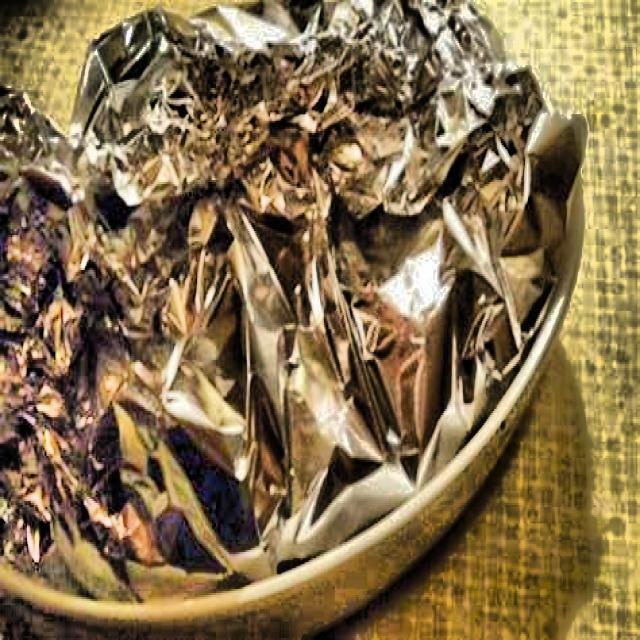Foil: (0, 0, 588, 607)
